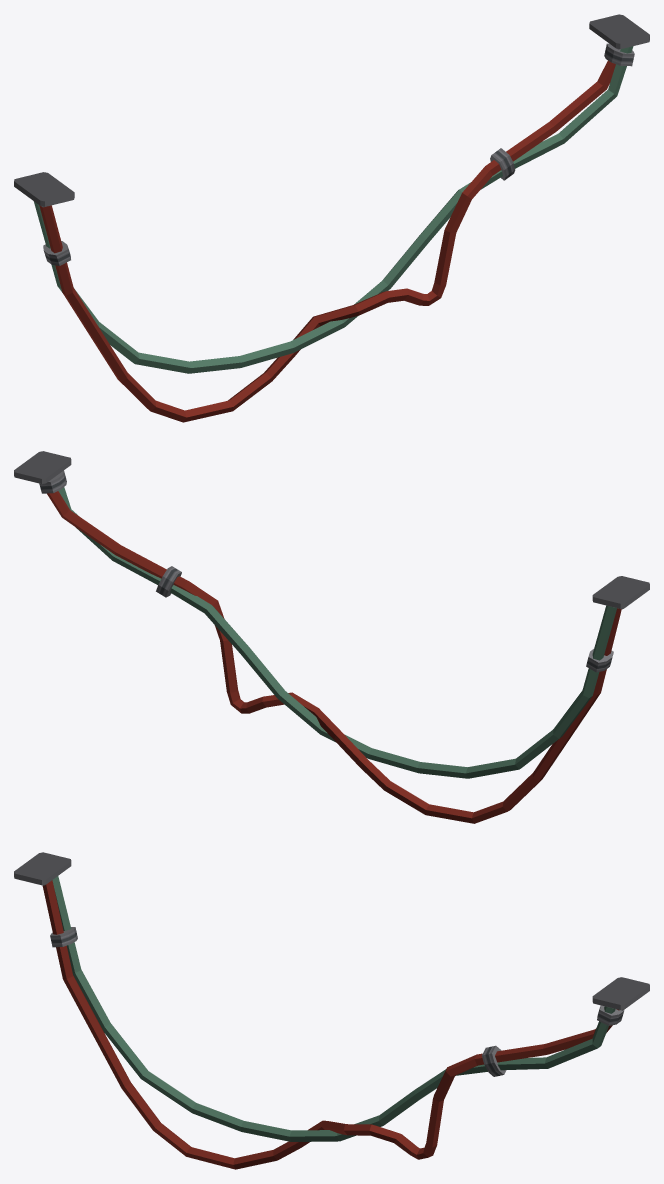
The model's file is SM_Prop_Wires_17.fbx.
3 renders of one model, top to bottom at view 1: azimuth 30°, elevation 25°; view 2: azimuth 150°, elevation 25°; view 3: azimuth 330°, elevation 25°, orthographic. The views are drawn at different scales.
Visible parts, largest first — view 1: SM_Prop_Wires_17; view 2: SM_Prop_Wires_17; view 3: SM_Prop_Wires_17.
Boxes of the visible parts, box(x1,y1,x2,y2) form: SM_Prop_Wires_17: box(14, 14, 649, 422); SM_Prop_Wires_17: box(14, 451, 649, 823); SM_Prop_Wires_17: box(14, 852, 649, 1169).
Size of the model in its own units: 402 by 170 by 53.46.
